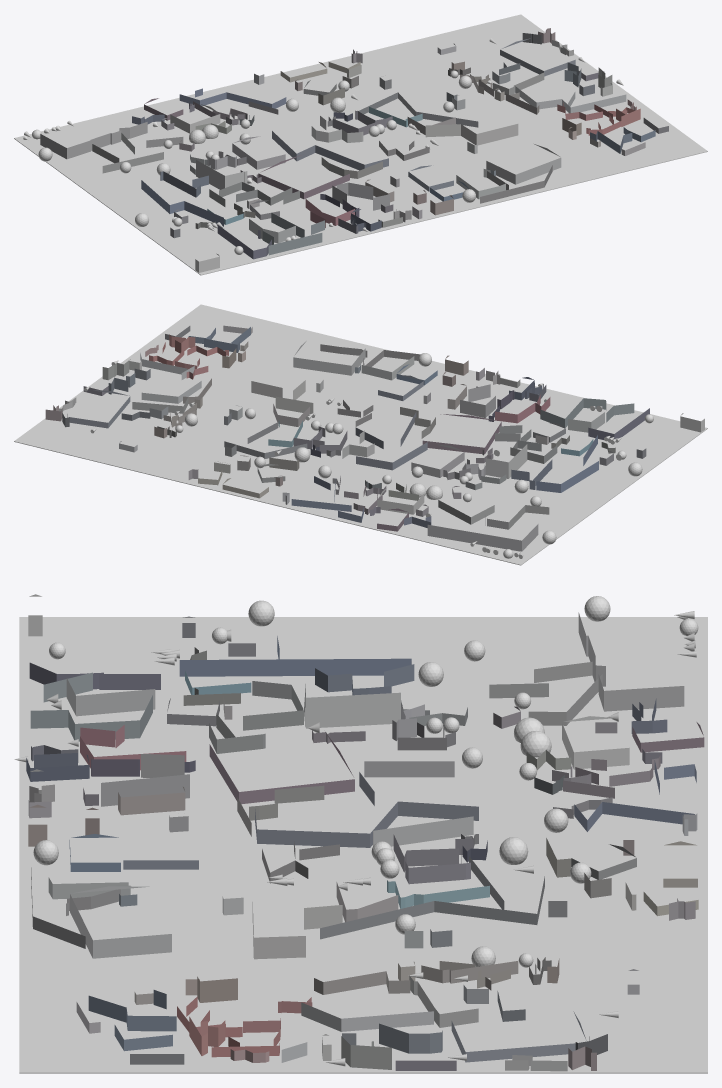
The picture shows the model from 3 angles, top to bottom: view 1: azimuth 30°, elevation 25°; view 2: azimuth 150°, elevation 25°; view 3: azimuth 270°, elevation 25°; orthographic projection. The views are drawn at different scales.
Visible parts, largest first — view 1: Ground_Base, BLD-008, BLD-098, BLD-123, BLD-018, BLD-095, BLD-052, BLD-070, BLD-133, BLD-114, BLD-088, BLD-006 (+13 smaller); view 2: Ground_Base, BLD-008, BLD-095, BLD-098, BLD-018, BLD-070, BLD-123, BLD-052, BLD-133, BLD-114, BLD-006, BLD-088 (+11 smaller); view 3: Ground_Base, BLD-088, BLD-070, BLD-074, BLD-082, BLD-095, BLD-114, BLD-018, BLD-123, BLD-008, BLD-052, BLD-133 (+36 smaller).
Boxes of the visible parts, x1,y1,x2,y2 form: Ground_Base: [14, 14, 707, 275]; BLD-008: [40, 122, 147, 159]; BLD-098: [425, 124, 518, 145]; BLD-123: [262, 213, 324, 255]; BLD-018: [92, 133, 183, 173]; BLD-095: [209, 182, 299, 206]; BLD-052: [515, 86, 626, 113]; BLD-070: [272, 131, 388, 170]; BLD-133: [486, 144, 561, 184]; BLD-114: [332, 182, 389, 210]; BLD-088: [141, 180, 223, 226]; BLD-006: [179, 88, 286, 108]; Ground_Base: [14, 304, 707, 565]; BLD-008: [427, 515, 538, 551]; BLD-095: [495, 425, 557, 463]; BLD-098: [251, 380, 313, 414]; BLD-018: [438, 500, 549, 529]; BLD-070: [355, 412, 427, 470]; BLD-123: [540, 398, 634, 428]; BLD-052: [140, 353, 201, 403]; BLD-133: [293, 341, 365, 375]; BLD-114: [460, 384, 495, 417]; BLD-006: [291, 476, 363, 522]; BLD-088: [536, 435, 598, 492]; Ground_Base: [19, 617, 707, 1073]; BLD-088: [179, 636, 411, 676]; BLD-070: [255, 772, 478, 847]; BLD-074: [320, 856, 544, 939]; BLD-082: [305, 692, 400, 728]; BLD-095: [209, 681, 305, 753]; BLD-114: [101, 754, 189, 806]; BLD-018: [489, 661, 602, 725]; BLD-123: [30, 672, 152, 741]; BLD-008: [578, 612, 684, 711]; BLD-052: [281, 1002, 433, 1062]; BLD-133: [70, 886, 171, 958].
Size of the model in its own units: 342 by 13.83 by 218.
